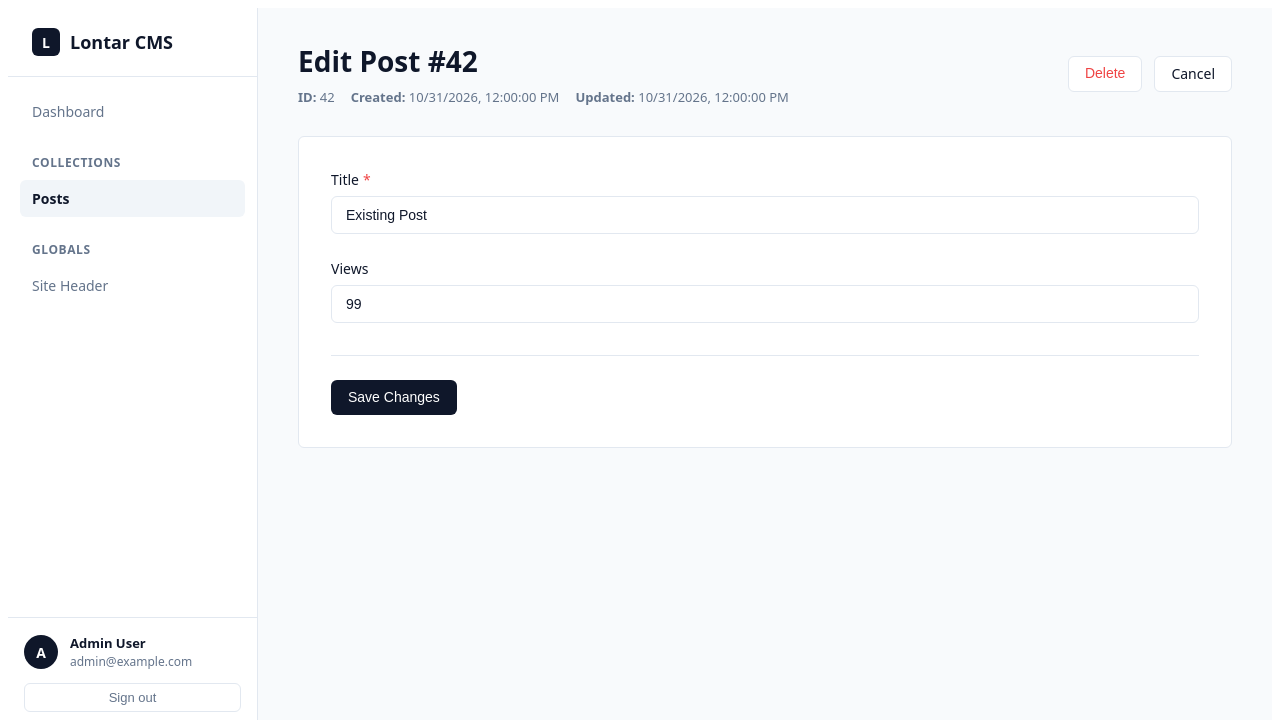
Admin SPA › renders edit form with preloaded document and saves updates
Expected: the heading "Edit Post #42" is shown, [298, 42, 478, 80]
Replace the text in the field with id "title" with "Updated Title": (765, 214) [331, 196, 1199, 234]
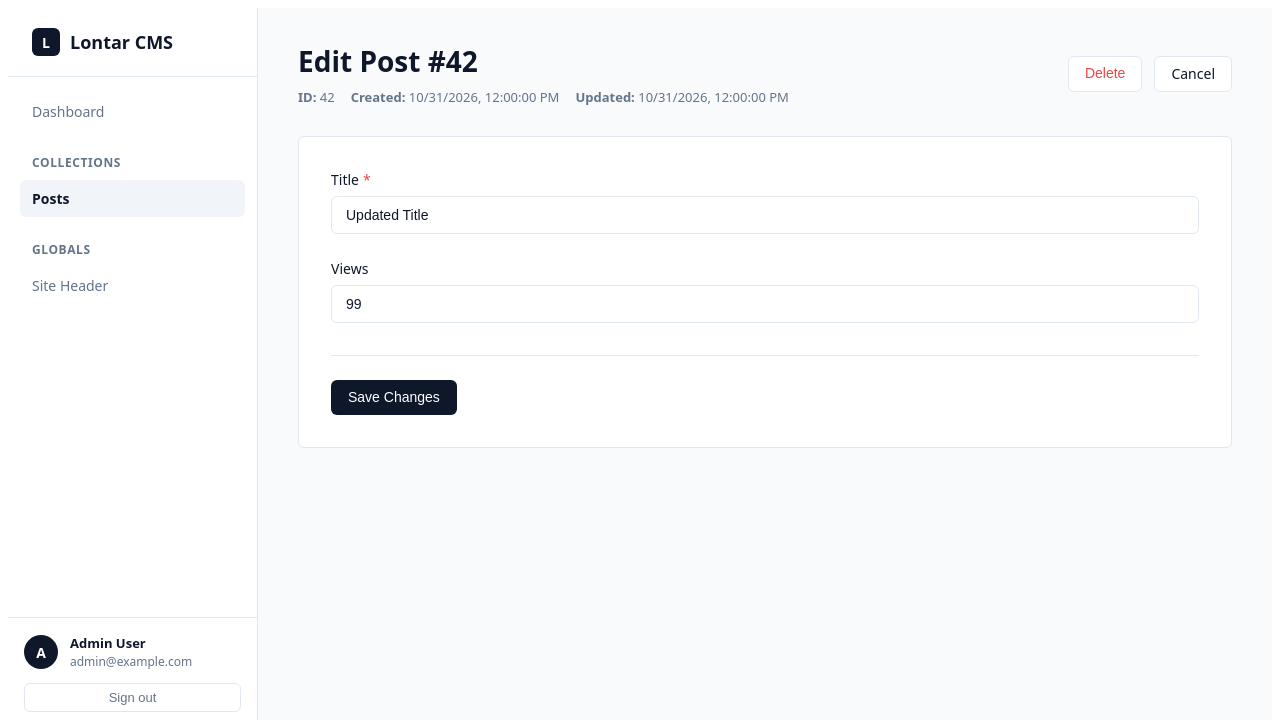
Click the button "Save Changes": (394, 397) [331, 380, 457, 415]
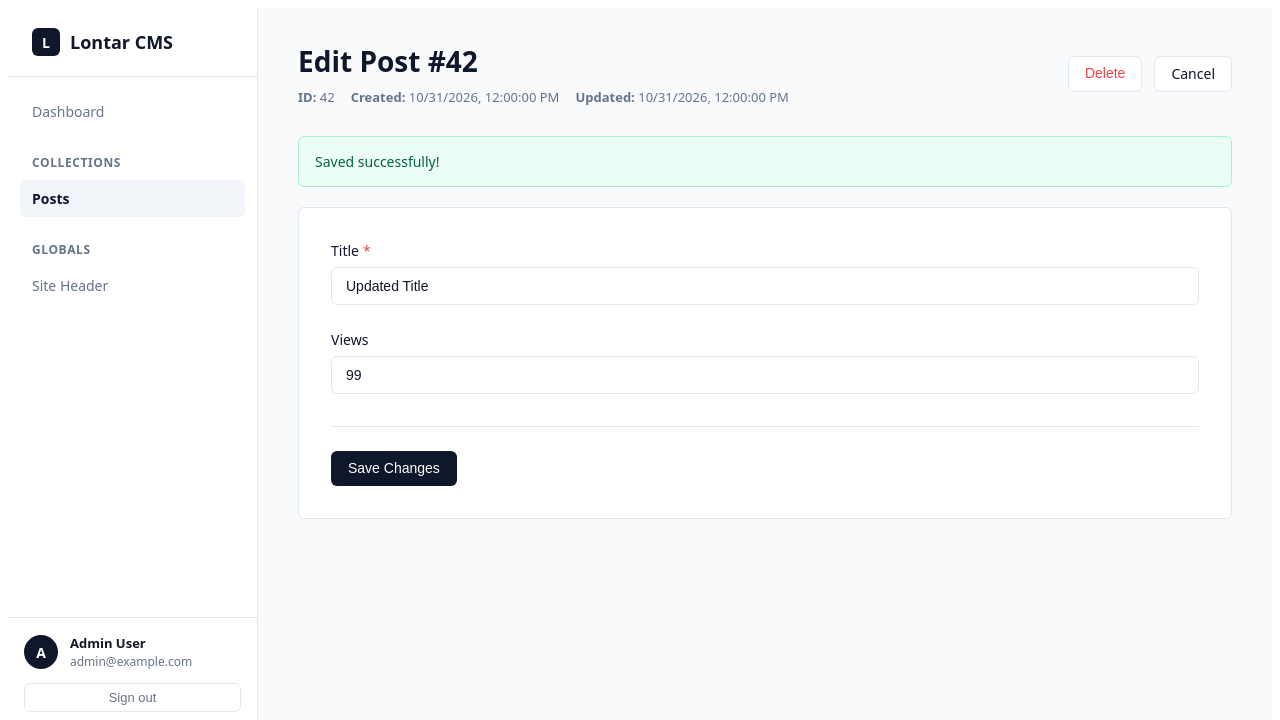
Expected: the text "Saved successfully!" is shown, [298, 136, 1232, 186]
